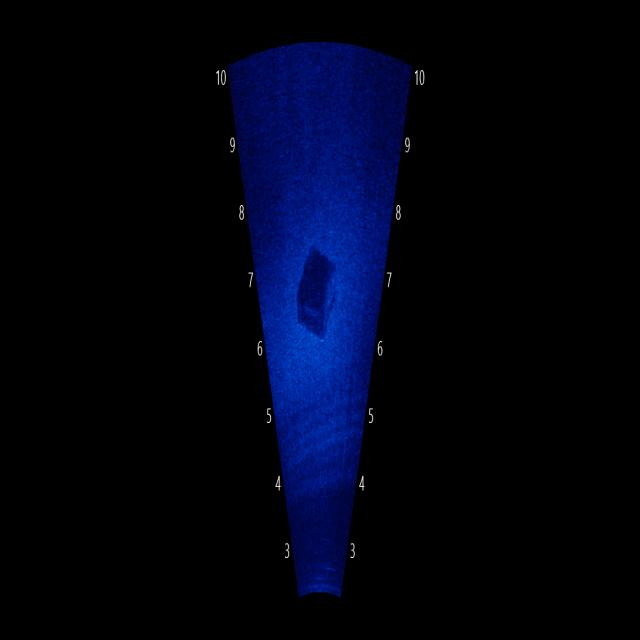square: (281, 220, 344, 370)
